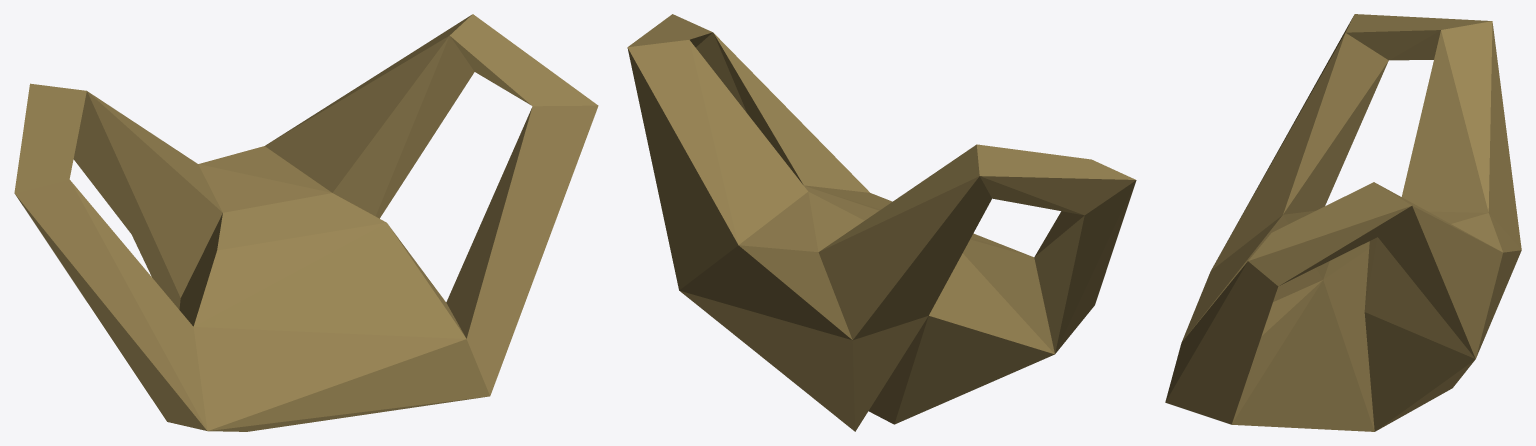
The model's file is Pelvis.fbx.
3 views of the same model, side by side, from view 1: azimuth 30°, elevation 25°; view 2: azimuth 150°, elevation 25°; view 3: azimuth 270°, elevation 25° (orthographic). The views are drawn at different scales.
Visible parts, largest first — view 1: Pelvis; view 2: Pelvis; view 3: Pelvis.
Boxes of the visible parts, left/top/right/bottom form: Pelvis: left=14, top=14, right=598, bottom=431; Pelvis: left=627, top=14, right=1136, bottom=431; Pelvis: left=1165, top=14, right=1521, bottom=431.
Size of the model in its own units: 34.52 by 21.48 by 21.09.
